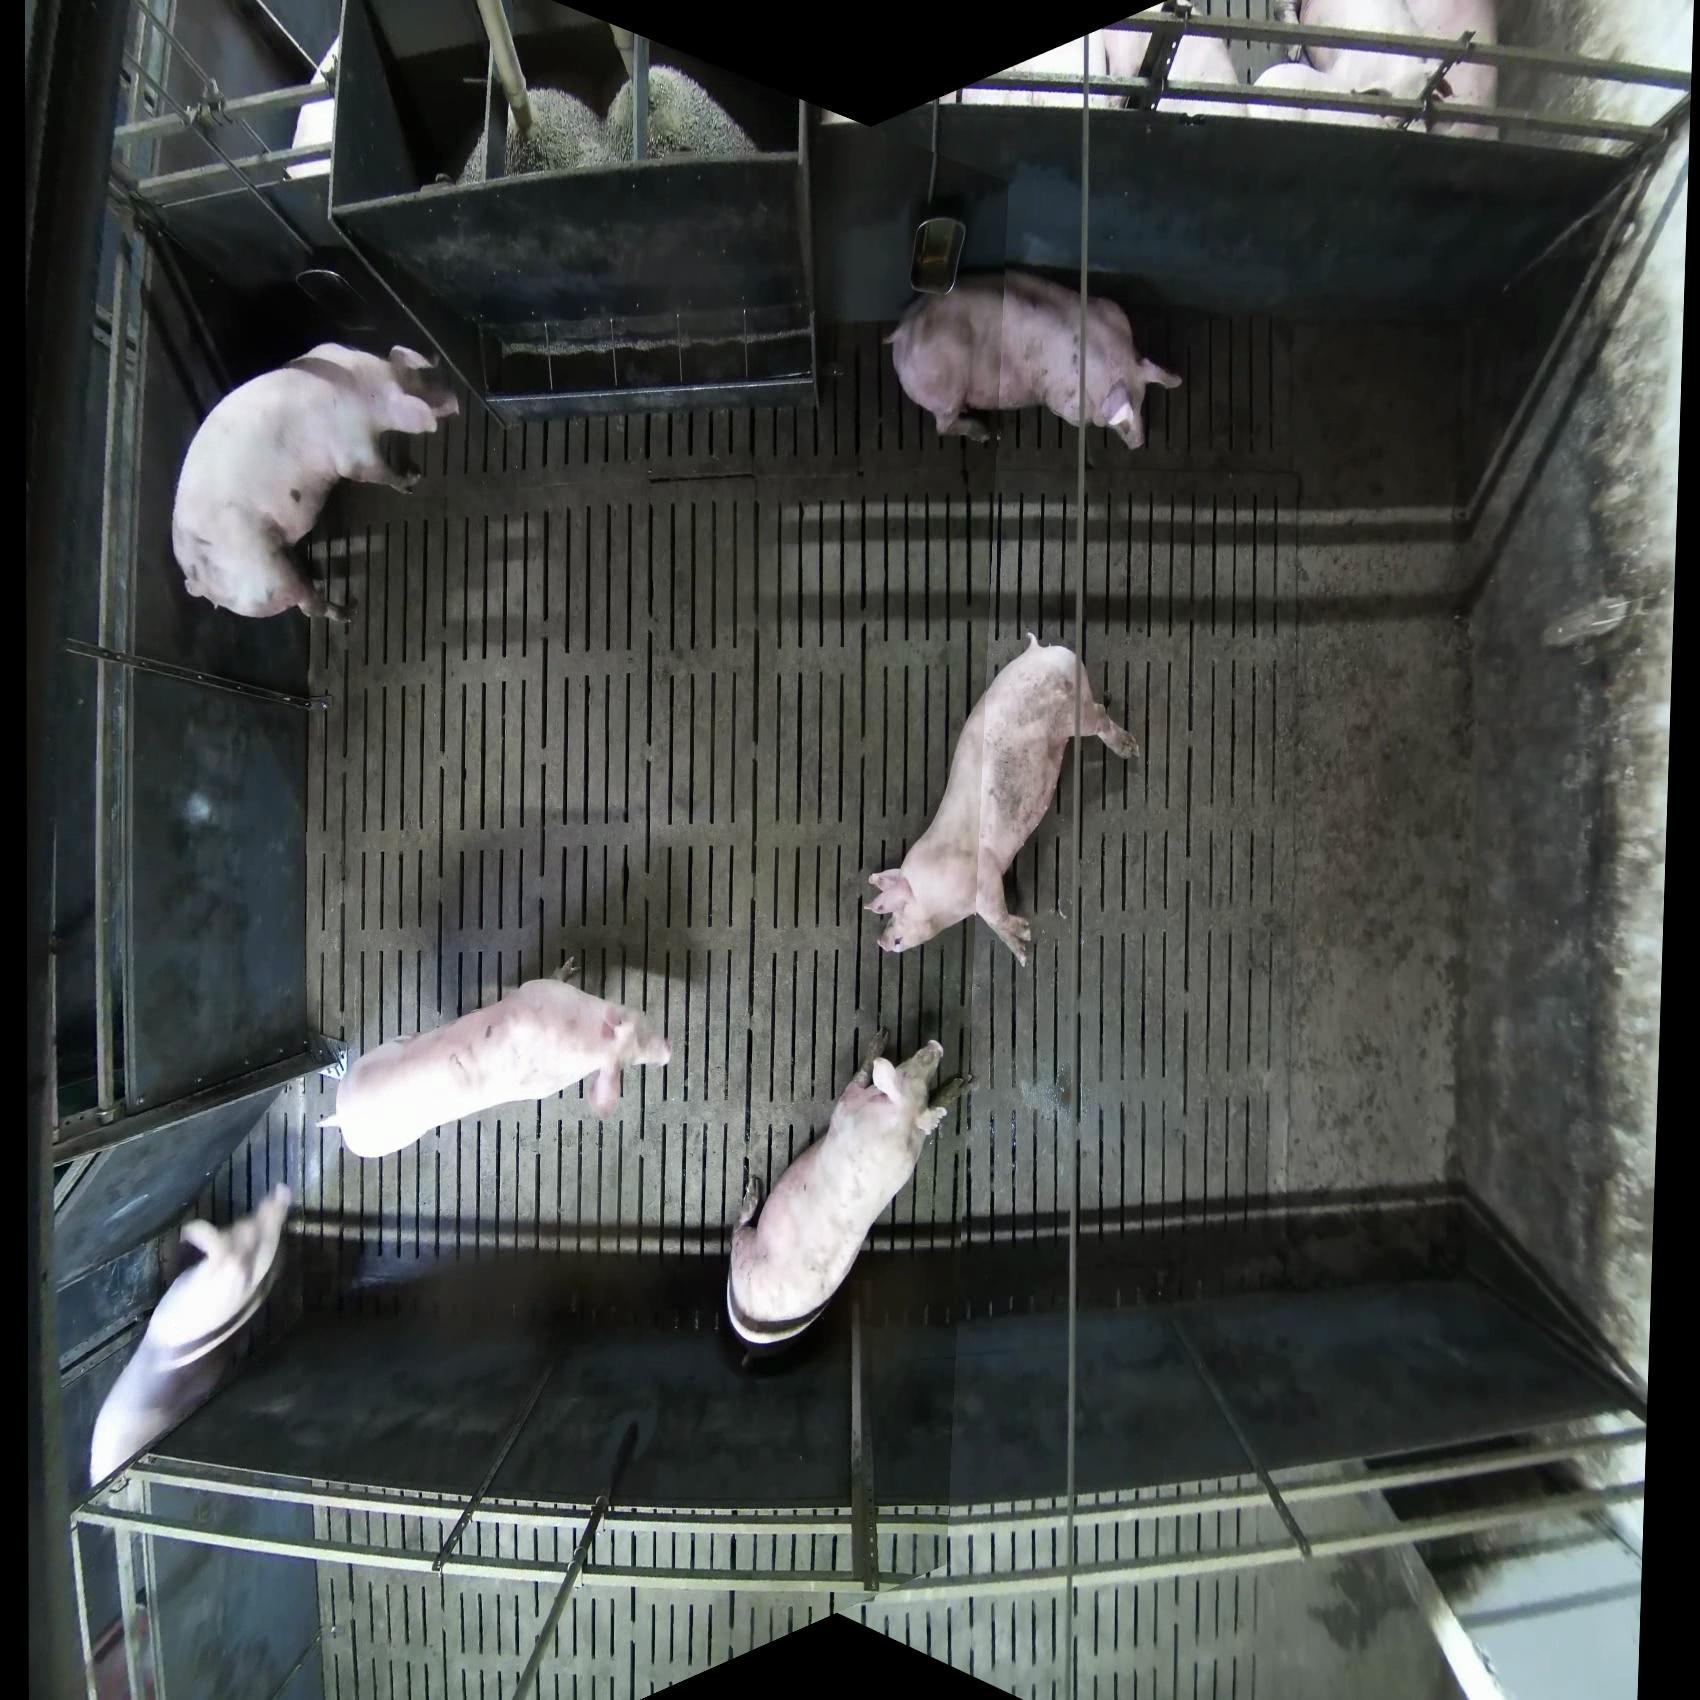pig: (862, 630, 1140, 971), (170, 339, 461, 626), (724, 1037, 950, 1348), (321, 975, 673, 1160), (89, 1182, 294, 1488), (884, 269, 1185, 453), (451, 64, 761, 184)
